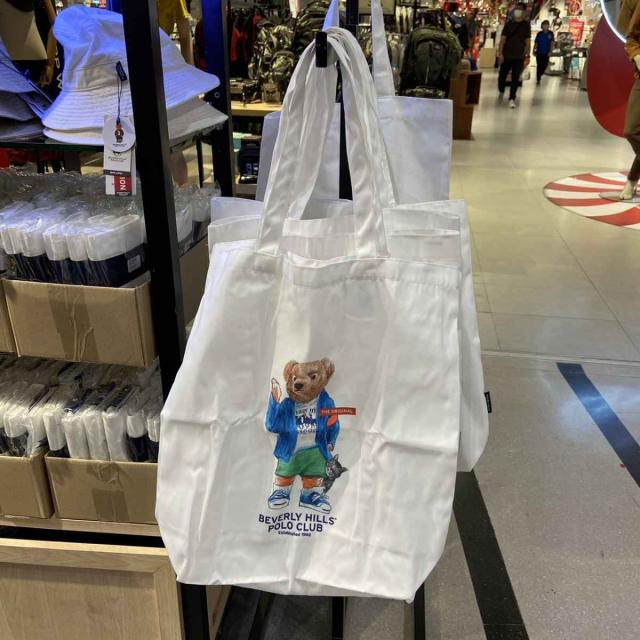Handbag: (132, 222, 476, 600)
